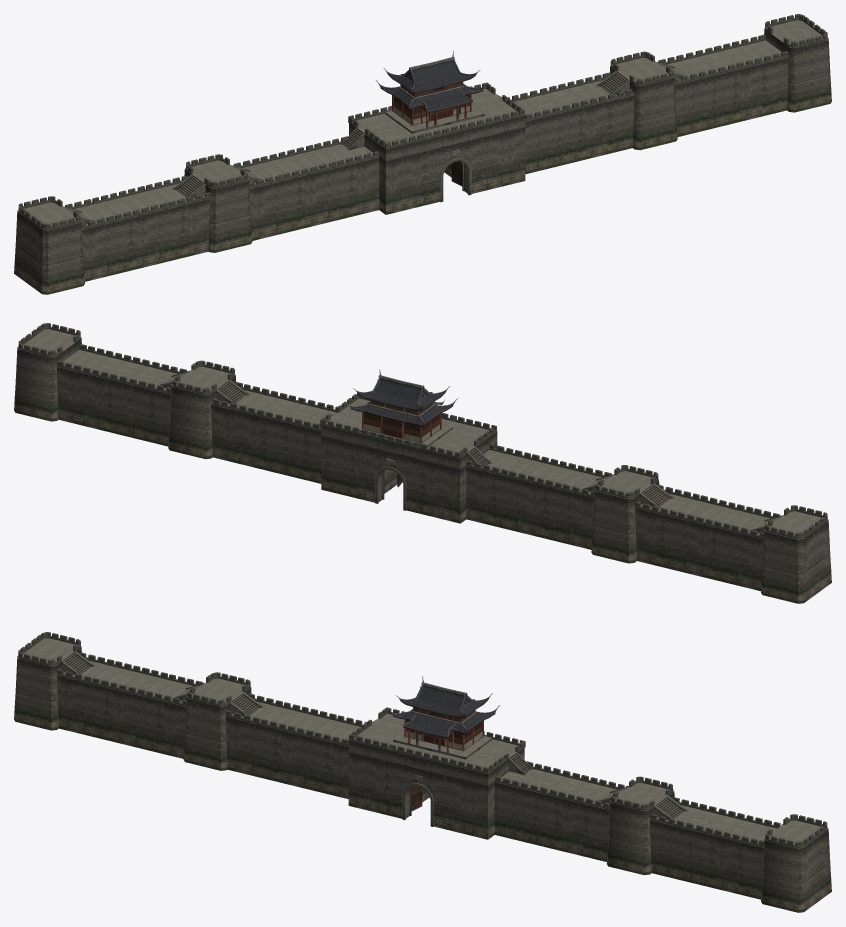
Rendered from chengmen.FBX.
The picture shows the model from 3 angles, top to bottom: view 1: azimuth 30°, elevation 25°; view 2: azimuth 150°, elevation 25°; view 3: azimuth 330°, elevation 25°; orthographic projection.
Parts seen in each view (by area): view 1: 对象002; view 2: 对象002; view 3: 对象002.
Boxes of the visible parts, x1,y1,x2,y2 form: 对象002: [14, 14, 831, 294]; 对象002: [14, 323, 831, 603]; 对象002: [14, 632, 831, 912].
Bounding box in the file's own units: 6689 × 948 × 613.
